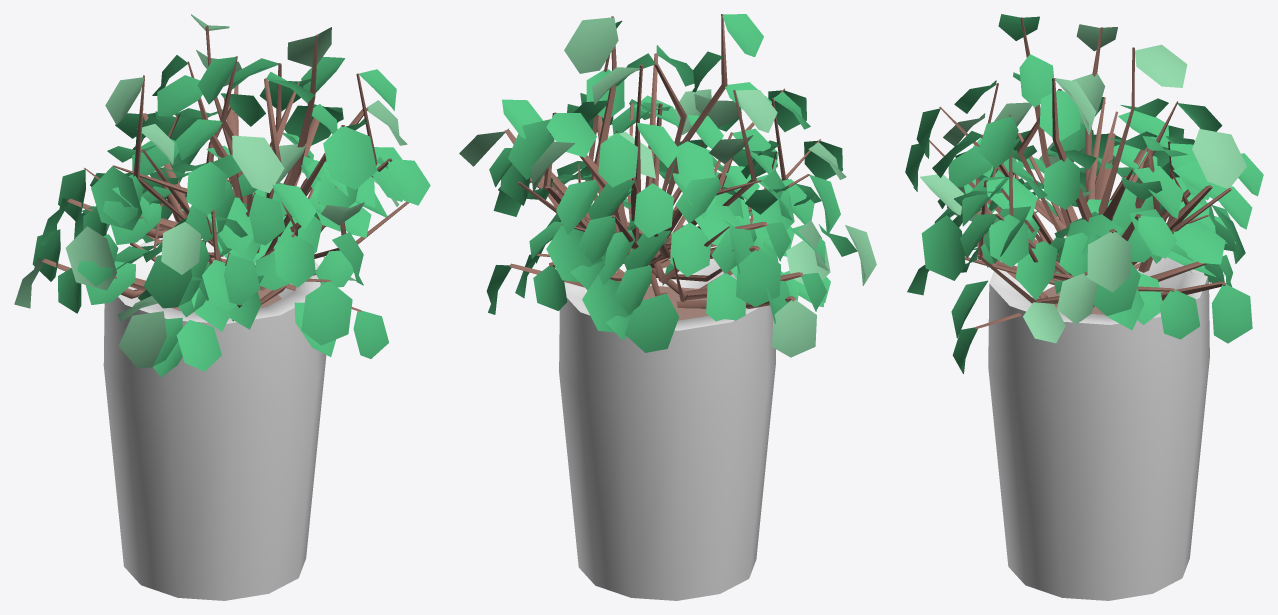
Rendered from flower_035.glb.
The picture shows the model from 3 angles, left to right: view 1: azimuth 30°, elevation 25°; view 2: azimuth 150°, elevation 25°; view 3: azimuth 270°, elevation 25°; orthographic projection. The views are drawn at different scales.
Parts seen in each view (by area): view 1: flower_035; view 2: flower_035; view 3: flower_035.
Boxes of the visible parts, x1,y1,x2,y2 form: flower_035: (14,14,430,600); flower_035: (459,14,876,600); flower_035: (905,14,1263,600).
Bounding box in the file's own units: 0.7649 × 1.05 × 0.6367.
Materials: 1 (1 with a texture image).
